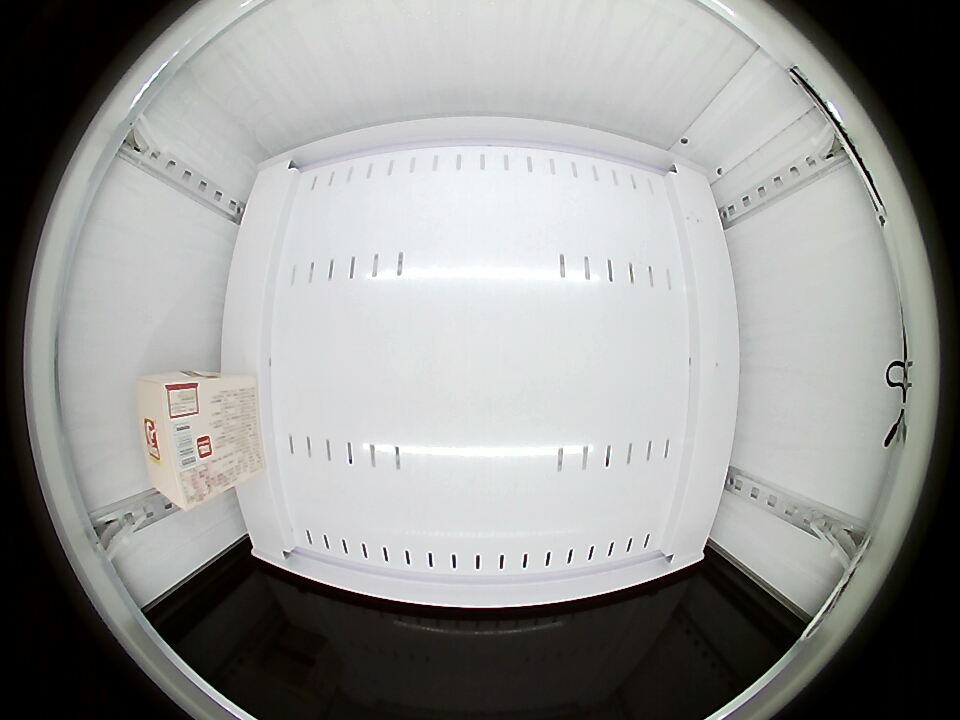rousongbing: (140, 371, 229, 511)
